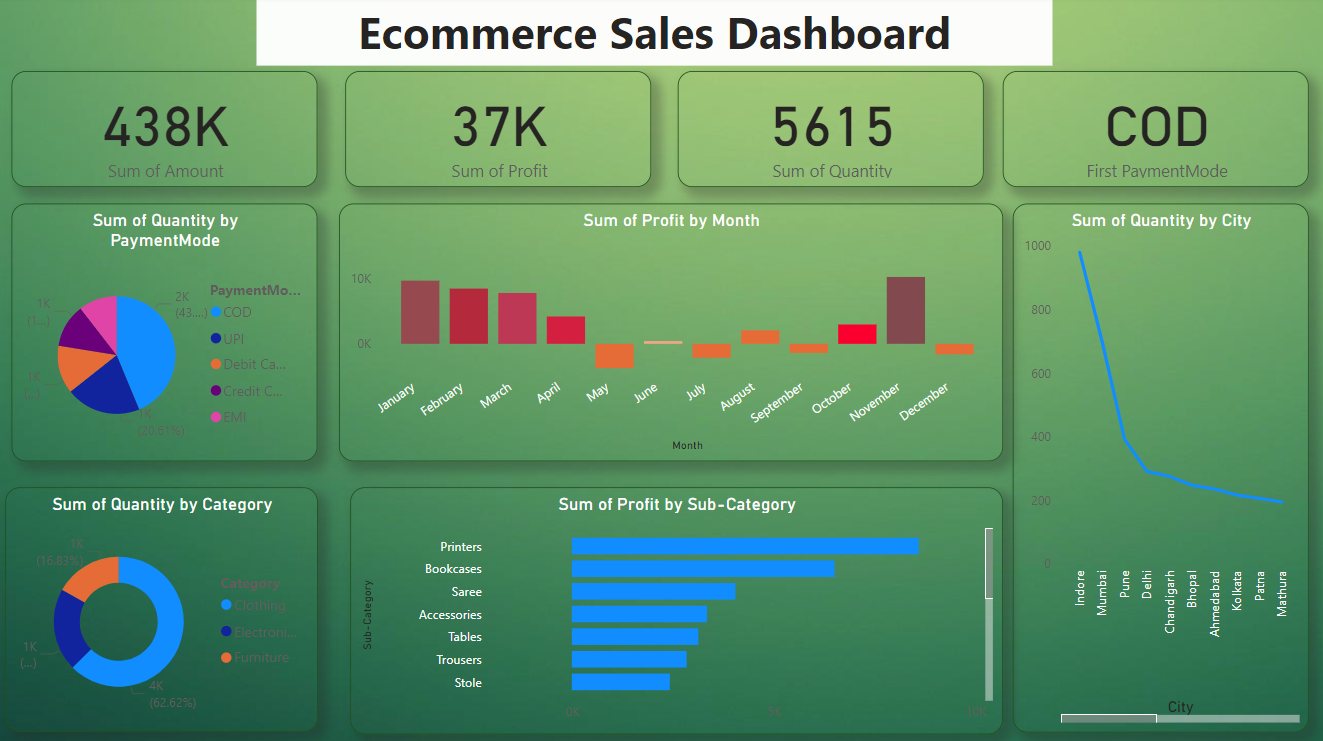

The dashboard page shown, as its layout file describes it:
{"tool":"powerbi","page":{"name":"Page 1","canvas":[1280,720],"ordinal":0},"visuals":[{"type":"textbox","box":[248.4,0,768.2,67.5],"z":0},{"type":"columnChart","fields":{"Category":["Orders.Order Date.Variation.Date Hierarchy.Month"],"Y":["Sum(details.Profit)"]},"box":[328,200.2,640.4,248.4],"z":1000},{"type":"pieChart","fields":{"Category":["details.PaymentMode"],"Y":["Sum(details.Quantity)"]},"box":[12.1,200.2,295.5,248.4],"z":2000},{"type":"barChart","fields":{"Y":["Sum(details.Profit)"],"Category":["details.Sub-Category"]},"box":[338.9,474,629.5,238.8],"z":3000},{"type":"donutChart","fields":{"Category":["details.Category"],"Y":["Sum(details.Quantity)"]},"box":[6,474,301.5,236.4],"z":4000},{"type":"card","fields":{"Values":["Sum(details.Amount)"]},"box":[12.1,72.4,295.5,112.2],"z":5000},{"type":"card","fields":{"Values":["Sum(details.Profit)"]},"box":[334.1,72.4,295.5,112.2],"z":6000},{"type":"card","fields":{"Values":["Sum(details.Quantity)"]},"box":[654.9,72.4,295.5,112.2],"z":7000},{"type":"card","fields":{"Values":["Min(details.PaymentMode)"]},"box":[968.4,72.4,295.5,112.2],"z":8000},{"type":"lineChart","fields":{"Category":["Orders.City"],"Y":["Sum(details.Quantity)"]},"box":[978.1,200.2,285.8,510.2],"z":9000}]}

Visuals, with their boxes in screenshot pixels (x1, y1, x2, y2), scaled from the page's 1280x720 canvas onto the 1323x741 screenshot:
textbox: bbox=[257, 0, 1051, 69]
columnChart - Orders.Order Date.Variation.Date Hierarchy.Month x Sum(details.Profit): bbox=[339, 206, 1001, 462]
pieChart - details.PaymentMode x Sum(details.Quantity): bbox=[13, 206, 318, 462]
barChart - Sum(details.Profit) x details.Sub-Category: bbox=[350, 488, 1001, 734]
donutChart - details.Category x Sum(details.Quantity): bbox=[6, 488, 318, 731]
card - Sum(details.Amount): bbox=[13, 75, 318, 190]
card - Sum(details.Profit): bbox=[345, 75, 651, 190]
card - Sum(details.Quantity): bbox=[677, 75, 982, 190]
card - Min(details.PaymentMode): bbox=[1001, 75, 1306, 190]
lineChart - Orders.City x Sum(details.Quantity): bbox=[1011, 206, 1306, 731]
